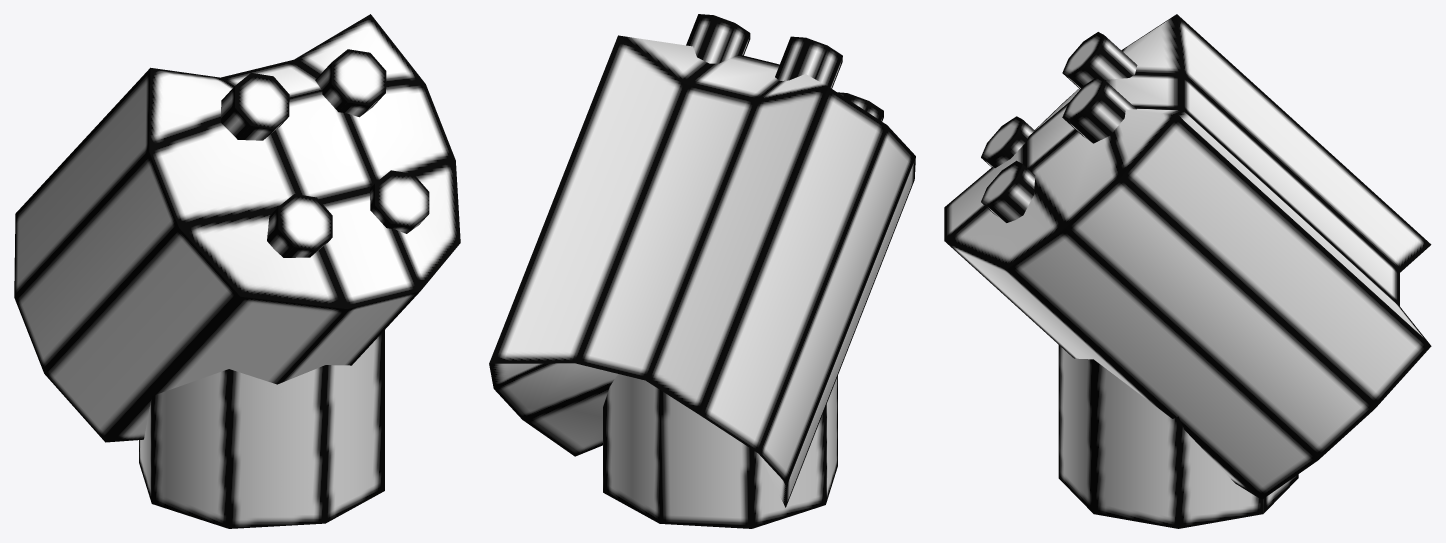
File: AntiAirTurret3.obj
3 views of the same model, side by side, from view 1: azimuth 30°, elevation 25°; view 2: azimuth 150°, elevation 25°; view 3: azimuth 270°, elevation 25° (orthographic). The views are drawn at different scales.
Parts seen in each view (by area): view 1: Box12; view 2: Box12; view 3: Box12.
Part boxes in pixels (x1=…): Box12: x1=14, y1=14, x2=460, y2=528; Box12: x1=489, y1=14, x2=915, y2=528; Box12: x1=944, y1=14, x2=1431, y2=528.
Size of the model in its own units: 1.26 by 1.93 by 2.03.
1 material, 1 textured.
